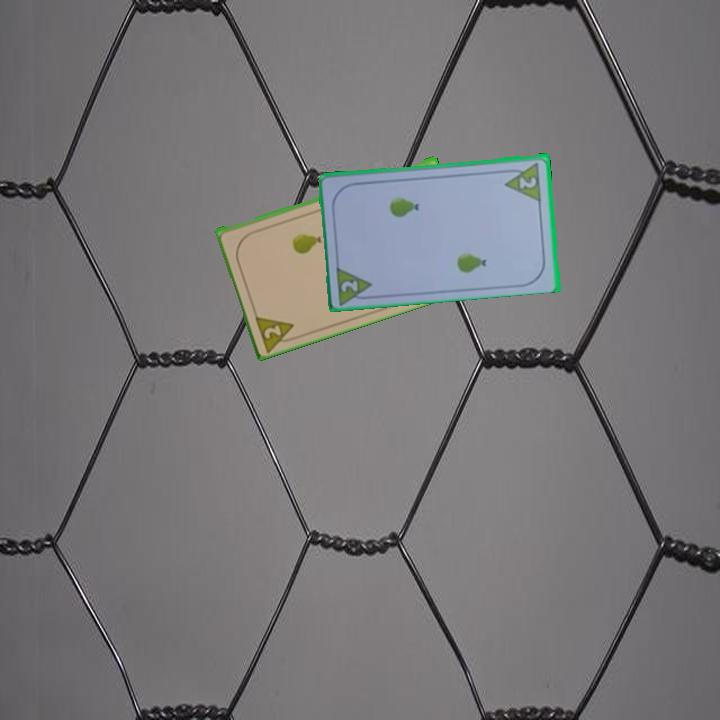2p: (251, 310, 302, 353), (333, 262, 377, 306), (516, 173, 540, 191)
